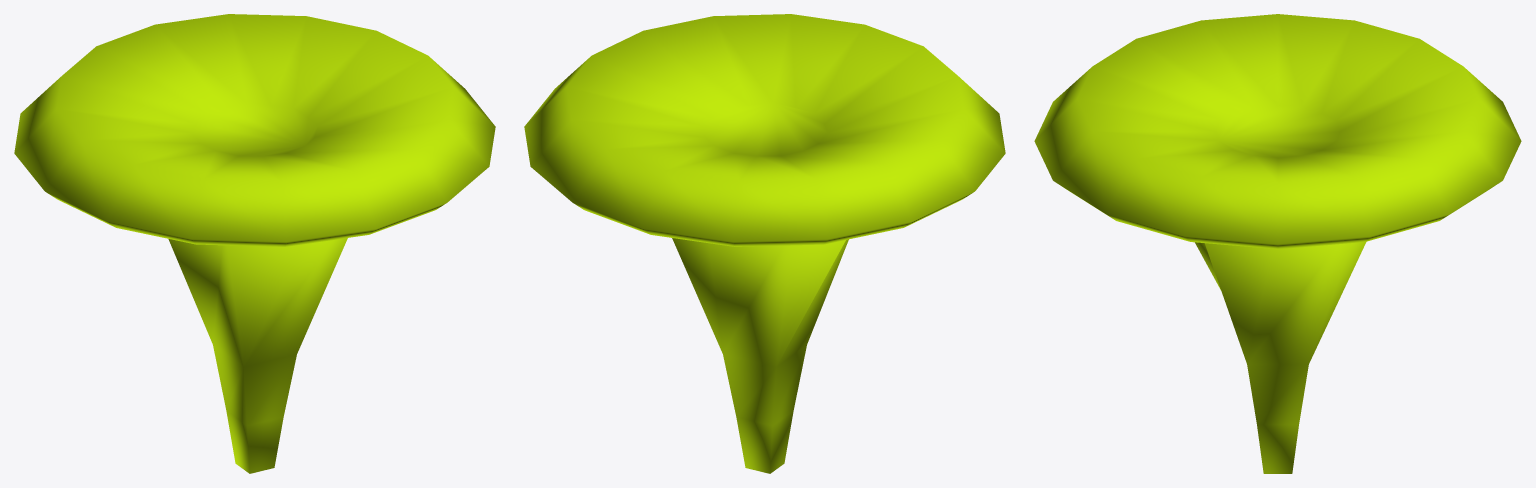
File: Mushroom2.fbx
3 views of the same model, side by side, from view 1: azimuth 30°, elevation 25°; view 2: azimuth 150°, elevation 25°; view 3: azimuth 270°, elevation 25° (orthographic).
Visible parts, largest first — view 1: Plane; view 2: Plane; view 3: Plane.
Boxes of the visible parts, x1=… form: Plane: x1=14, y1=14, x2=495, y2=473; Plane: x1=524, y1=14, x2=1005, y2=473; Plane: x1=1034, y1=14, x2=1521, y2=473.
Bounding box in the file's own units: 73.39 × 61.37 × 73.39.
